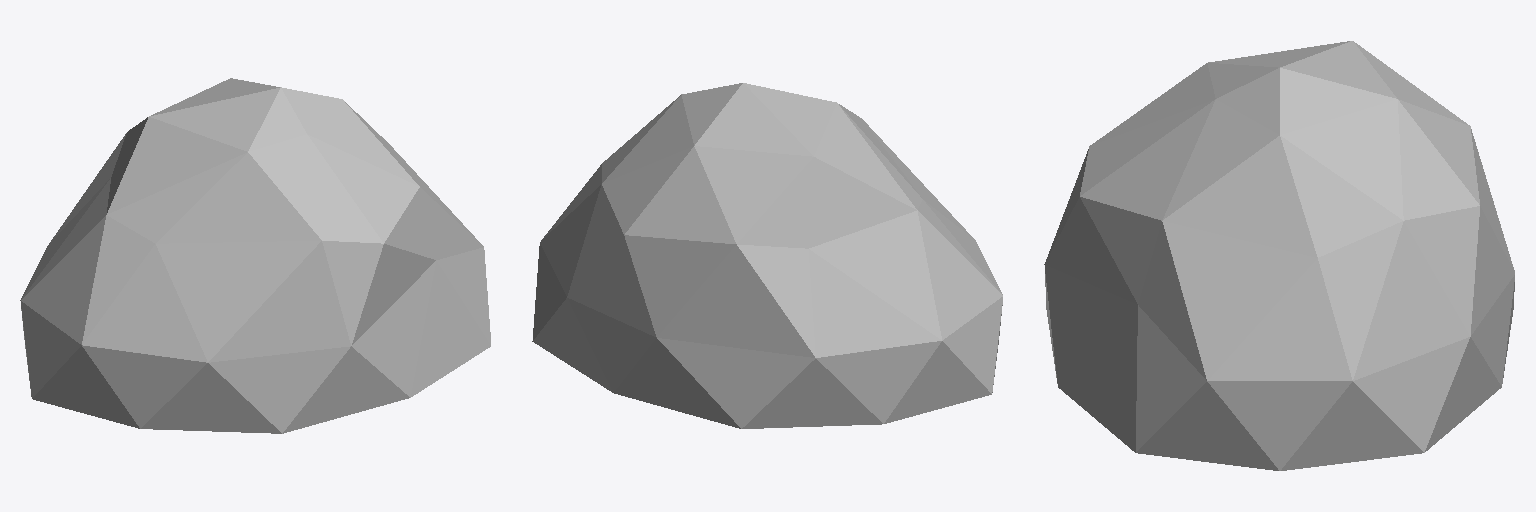
URDF robot description (smallrock):
<?xml version="1.0" ?>
<robot name="smallrock">
  <link name="baseLink">
    <inertial>
      <mass value="0.0"/>
      <inertia ixx="0" ixy="0" ixz="0" iyy="0" iyz="0" izz="0"/>
    </inertial>
    
    <visual>
      <origin rpy="0 0 0" xyz="0 0 0.0"/> 
      <geometry>
        <mesh filename="smallrock.obj" scale="1 1 1"/>
      </geometry>
      <material name="gray">
        <color rgba="0.753 0.753 0.753 1.0"/>
      </material>
    </visual>
    
    <collision>
      <origin rpy="0 0 0" xyz="0 0 0.0"/> 
      <geometry>
        <mesh filename="smallrock.obj" scale="1 1 1"/>
        
        </geometry>
    </collision>
  </link>
</robot>

--- Render facts (derived) ---
The picture shows the robot from 3 angles, left to right: view 1: azimuth 30°, elevation 25°; view 2: azimuth 150°, elevation 25°; view 3: azimuth 270°, elevation 25°; orthographic projection.
Robot: smallrock — 1 links, 0 joints (none); root link baseLink; default pose: every joint at zero.
Links seen in each view (by area): view 1: baseLink; view 2: baseLink; view 3: baseLink.
Link boxes in pixels (x1,y1,x2,y2): baseLink: [20, 78, 490, 433]; baseLink: [532, 83, 1002, 428]; baseLink: [1044, 41, 1514, 470].
Size in the robot's own frame: 1.64 by 1.31 by 0.9141 metres.
1 mesh visuals loaded from 1 distinct referenced files (1 OBJ).
